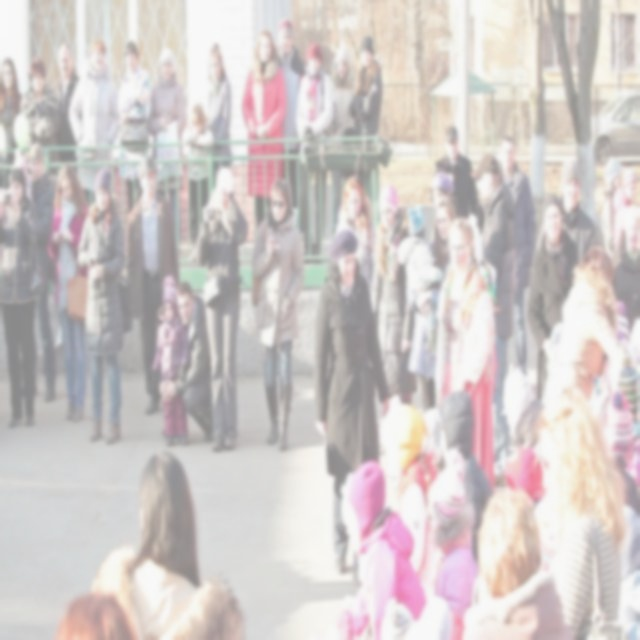pessoa: (87, 446, 248, 638), (312, 228, 392, 576), (433, 216, 498, 499), (461, 482, 575, 638), (552, 401, 624, 638), (334, 461, 428, 638), (248, 173, 306, 456), (76, 164, 134, 447), (469, 150, 517, 490), (121, 154, 182, 418), (195, 164, 250, 455), (544, 245, 630, 403), (46, 158, 92, 426), (404, 192, 458, 415), (0, 165, 45, 431), (378, 400, 439, 592), (292, 38, 342, 268), (370, 181, 420, 408), (453, 216, 498, 460), (526, 190, 580, 393), (437, 388, 494, 567), (20, 141, 58, 404), (241, 27, 289, 230), (498, 133, 536, 388), (68, 38, 122, 210), (145, 42, 188, 256), (424, 459, 479, 622), (396, 201, 444, 359), (502, 444, 560, 574), (544, 314, 584, 502), (172, 280, 214, 444), (536, 156, 598, 267), (276, 15, 306, 234), (152, 276, 190, 448), (328, 34, 358, 242), (117, 41, 153, 211), (610, 453, 640, 640), (179, 100, 215, 251), (18, 55, 62, 176), (334, 175, 376, 296), (434, 124, 480, 227), (603, 390, 639, 518), (54, 586, 141, 638), (600, 300, 639, 408), (610, 201, 640, 340), (206, 42, 234, 190), (347, 33, 384, 144), (502, 359, 544, 452), (374, 589, 452, 639), (50, 40, 80, 163), (0, 56, 24, 191), (593, 154, 623, 258), (428, 169, 454, 243), (613, 166, 638, 242), (616, 352, 640, 424), (417, 402, 444, 464), (12, 147, 33, 205), (626, 310, 640, 376)
